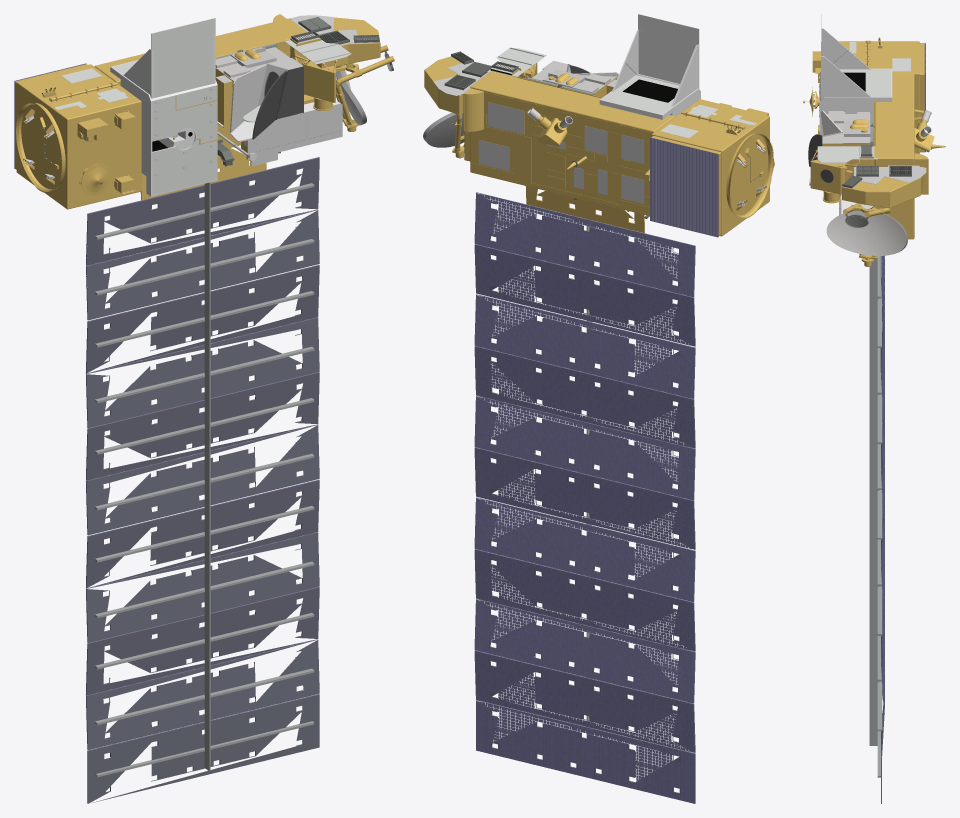
The model's file is aura-d.glb.
3 renders of one model, left to right at view 1: azimuth 30°, elevation 25°; view 2: azimuth 150°, elevation 25°; view 3: azimuth 270°, elevation 25°, orthographic. The views are drawn at different scales.
Parts seen in each view (by area): view 1: Layer_0, Layer_1; view 2: Layer_0, Layer_1; view 3: Layer_0, Layer_1.
Part boxes in pixels (x1,y1,x2,y2): Layer_0: [14, 14, 394, 803]; Layer_1: [23, 47, 355, 176]; Layer_0: [423, 14, 774, 803]; Layer_1: [542, 61, 766, 202]; Layer_0: [803, 14, 945, 803]; Layer_1: [808, 38, 882, 208].
Bounding box in the file's own units: 8.72 × 18.64 × 3.44.
Materials: 3 (3 with a texture image).
